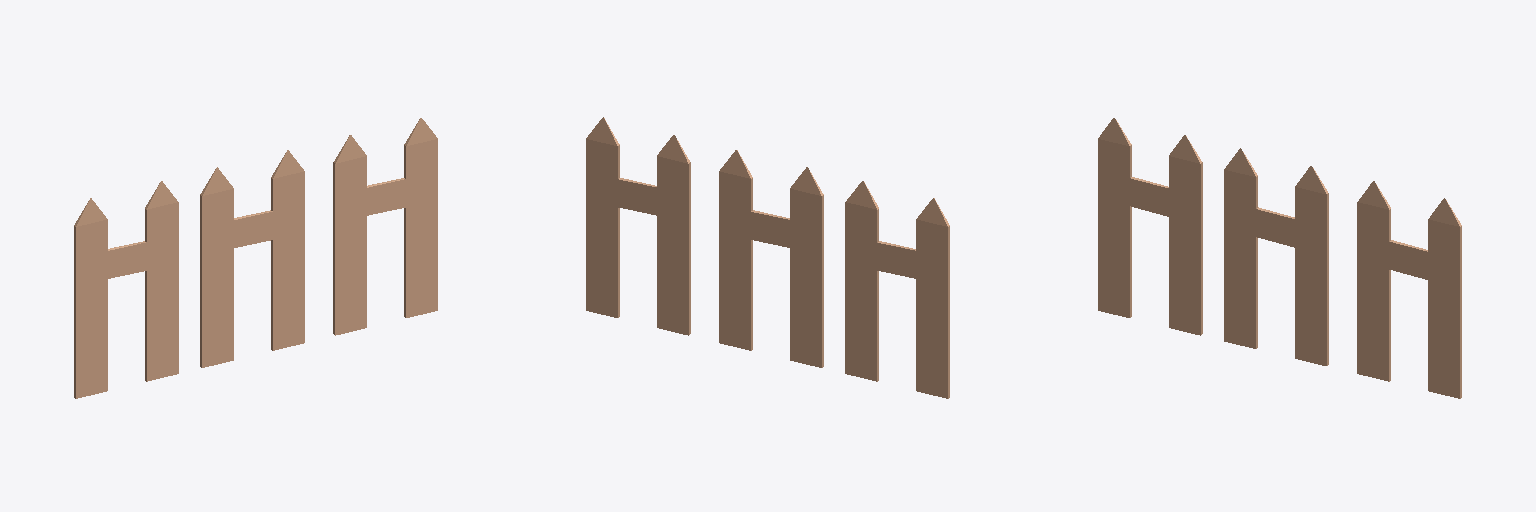
File: valla.obj
The picture shows the model from 3 angles: view 1: azimuth 30°, elevation 25°; view 2: azimuth 150°, elevation 25°; view 3: azimuth 330°, elevation 25°; orthographic projection.
Visible parts, largest first — view 1: Box001; view 2: Box001; view 3: Box001.
Boxes of the visible parts, x1=… form: Box001: x1=74, y1=118, x2=437, y2=398; Box001: x1=586, y1=117, x2=949, y2=398; Box001: x1=1098, y1=118, x2=1461, y2=398.
Size of the model in its own units: 48.31 by 25.02 by 0.4663.